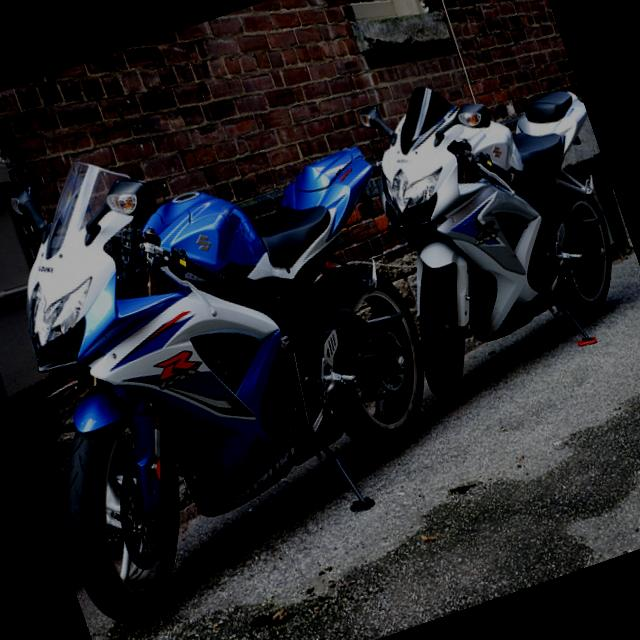Vehicle: (0, 69, 489, 635), (328, 32, 640, 411)
